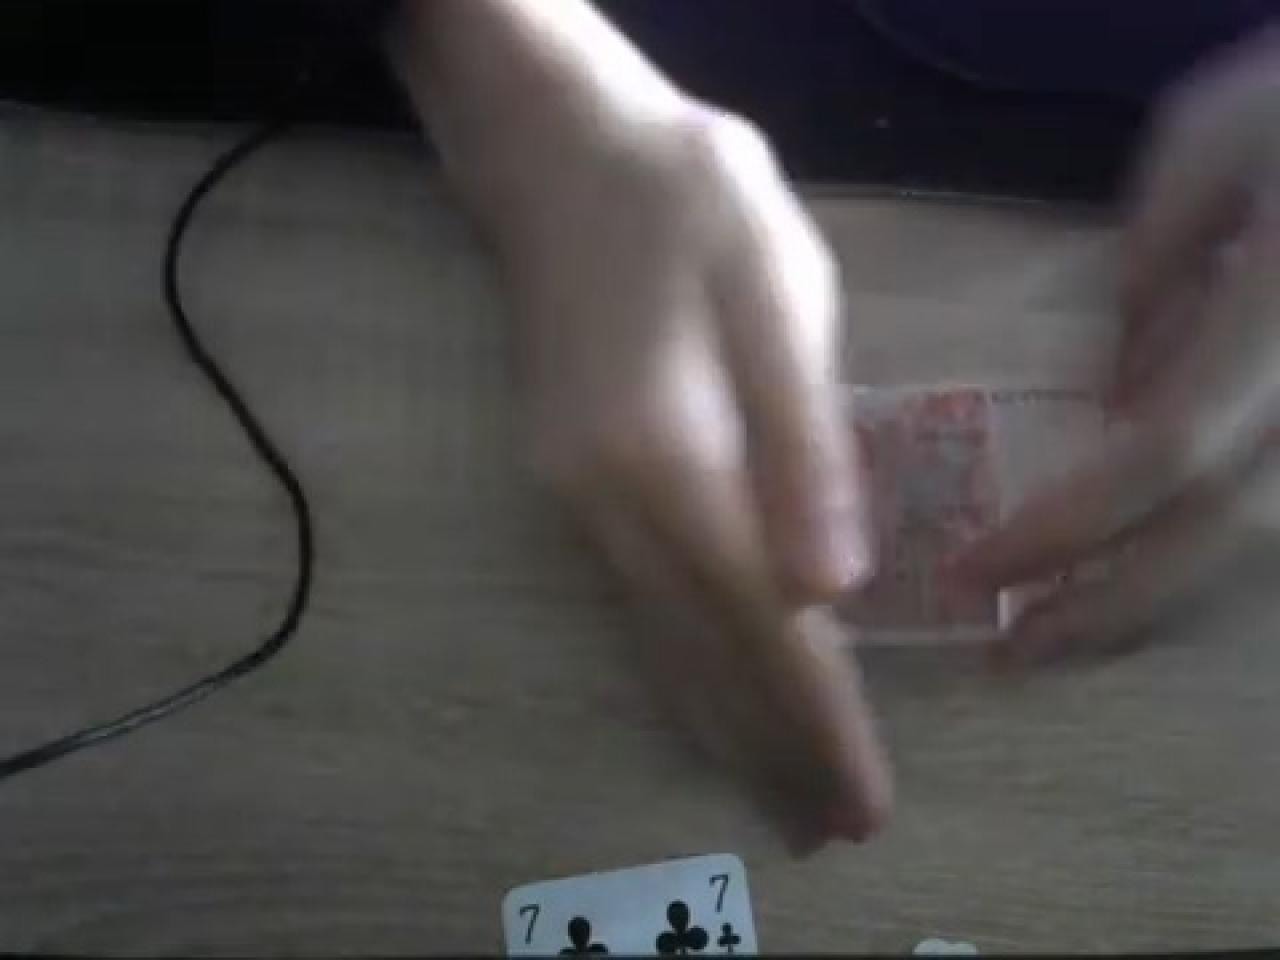5leva: (840, 381, 1085, 645), (861, 384, 1107, 637)
